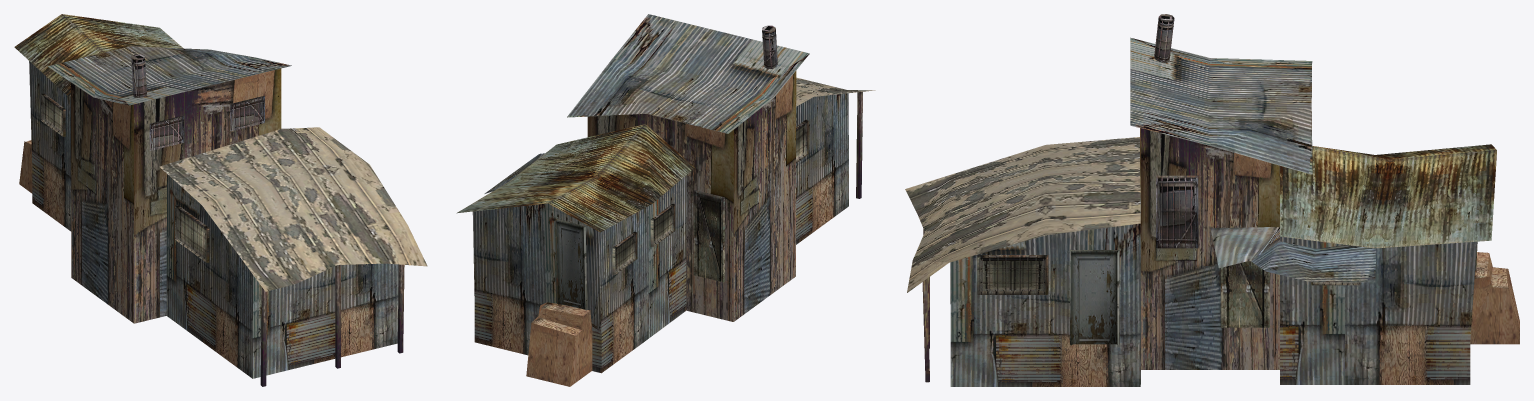
The model's file is MogSlm03.glb.
3 renders of one model, left to right at view 1: azimuth 30°, elevation 25°; view 2: azimuth 150°, elevation 25°; view 3: azimuth 270°, elevation 25°, orthographic. The views are drawn at different scales.
Visible parts, largest first — view 1: _MogSlm03; view 2: _MogSlm03; view 3: _MogSlm03.
Part boxes in pixels (left/top/right/bottom): _MogSlm03: left=14, top=14, right=427, bottom=386; _MogSlm03: left=456, top=14, right=875, bottom=386; _MogSlm03: left=905, top=14, right=1519, bottom=386.
Size of the model in its own units: 6.06 by 6.76 by 13.34.
Materials: 1 (1 with a texture image).
